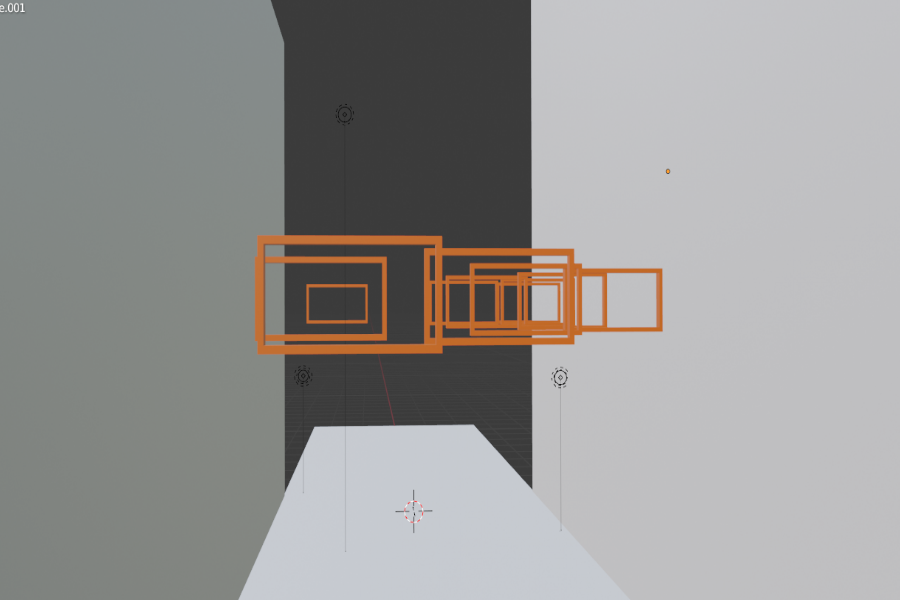GATE: (251, 231, 449, 361)
